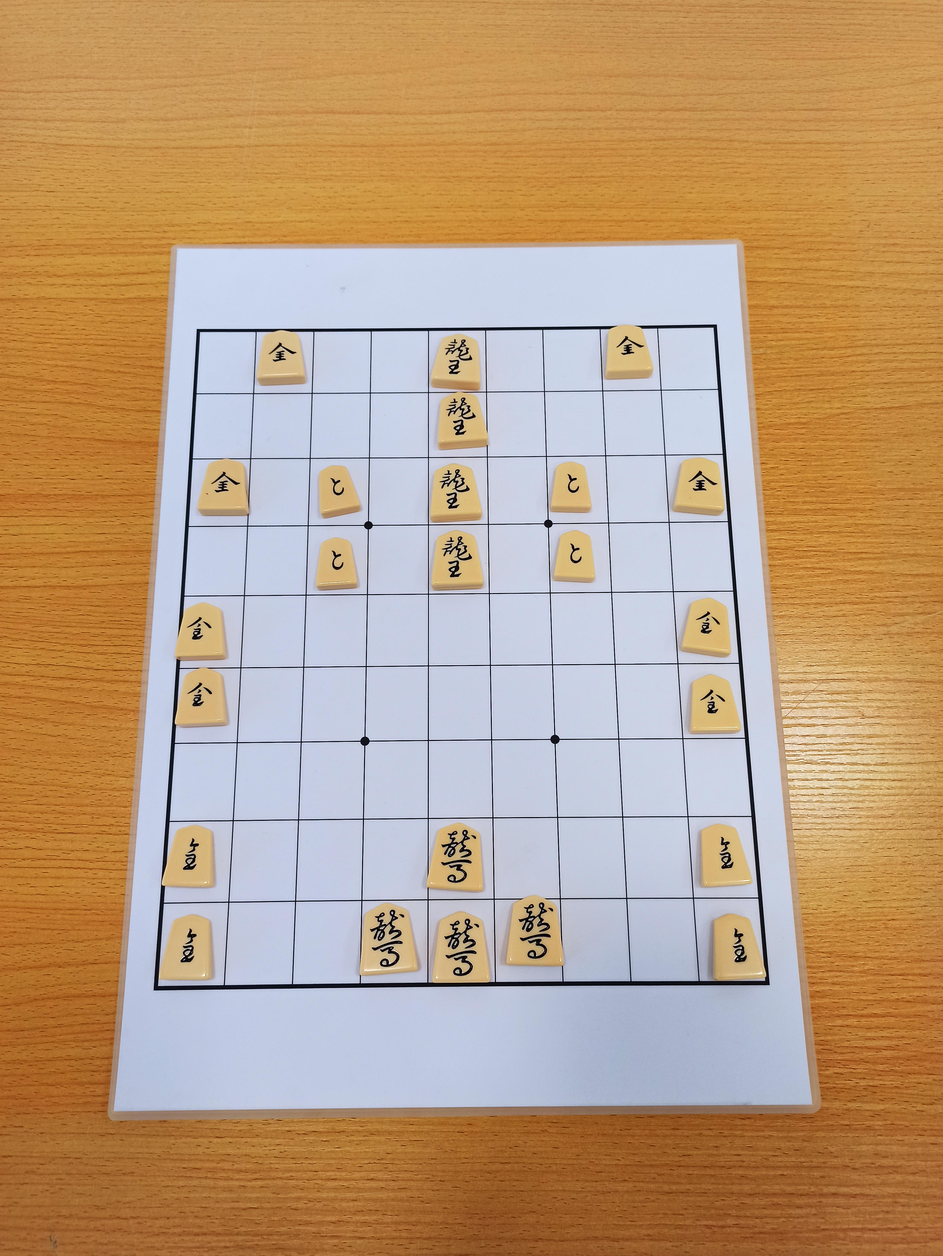board: (155, 327, 767, 990)
